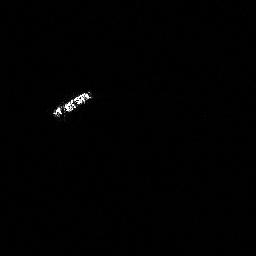ship: (51, 89, 93, 118)
